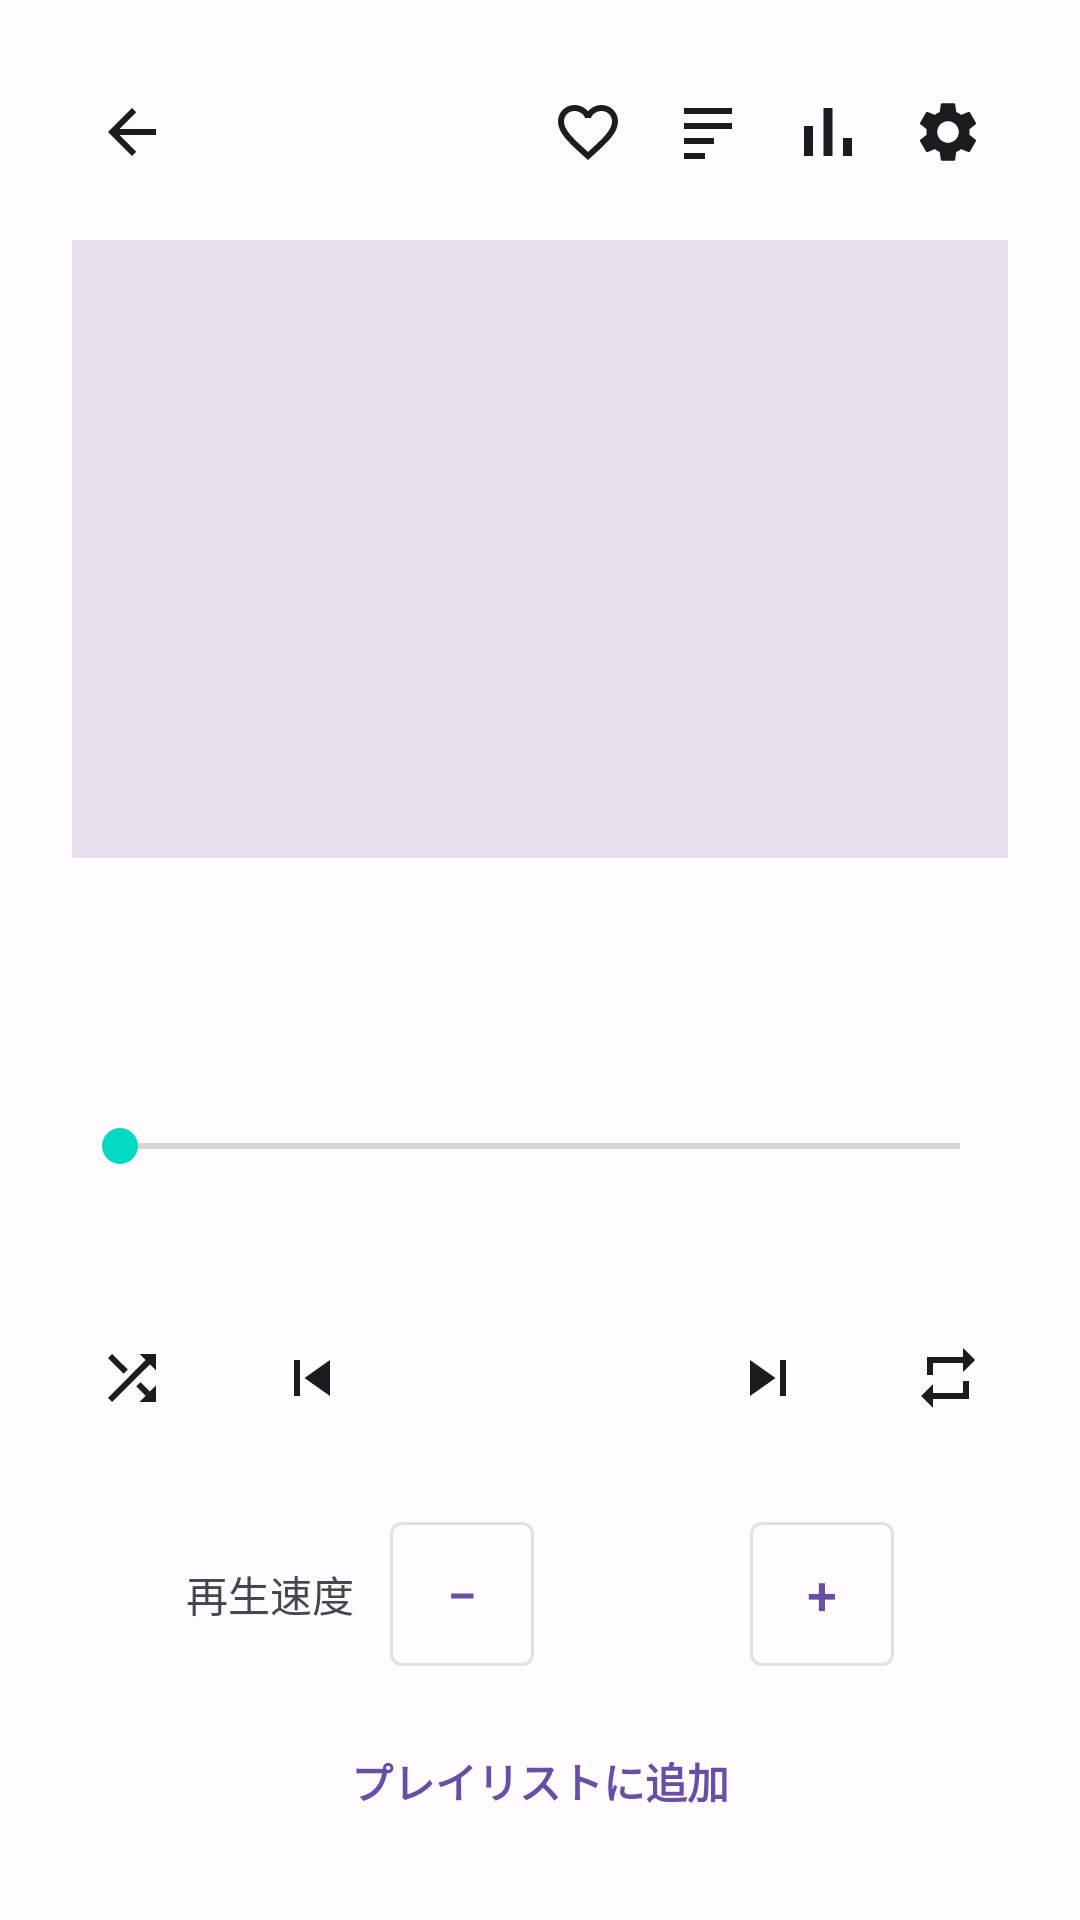

Icon bounding boxes for this 1080 × 1920 phone screenshot, format [left=x1, top=y1, right=x2, bottom=y2]:
お気に入り切替: [left=558, top=105, right=618, bottom=160]
イコライザー: [left=804, top=108, right=852, bottom=156]
シャッフル切替: [left=108, top=1354, right=156, bottom=1402]
リピートモード切替: [left=921, top=1348, right=975, bottom=1408]
再生設定: [left=920, top=103, right=976, bottom=161]
前へ: [left=294, top=1360, right=330, bottom=1396]
戻る: [left=108, top=108, right=156, bottom=156]
次へ: [left=750, top=1360, right=786, bottom=1396]
歌詞: [left=684, top=108, right=732, bottom=159]
